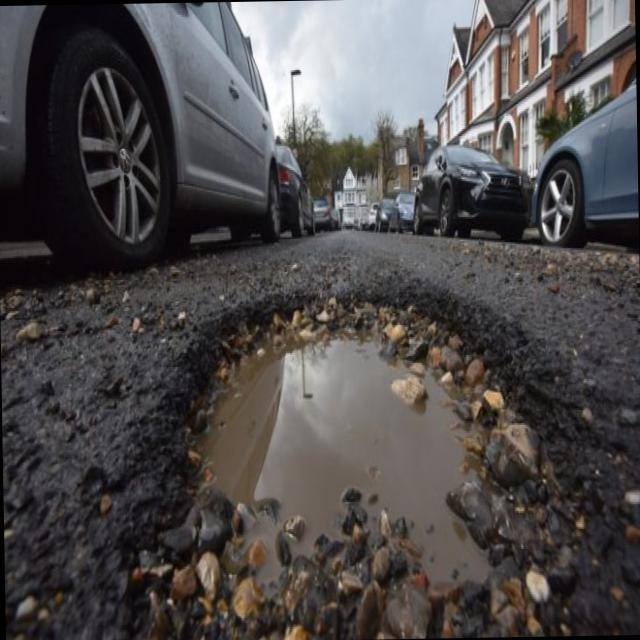Pothole: (182, 274, 548, 618)
